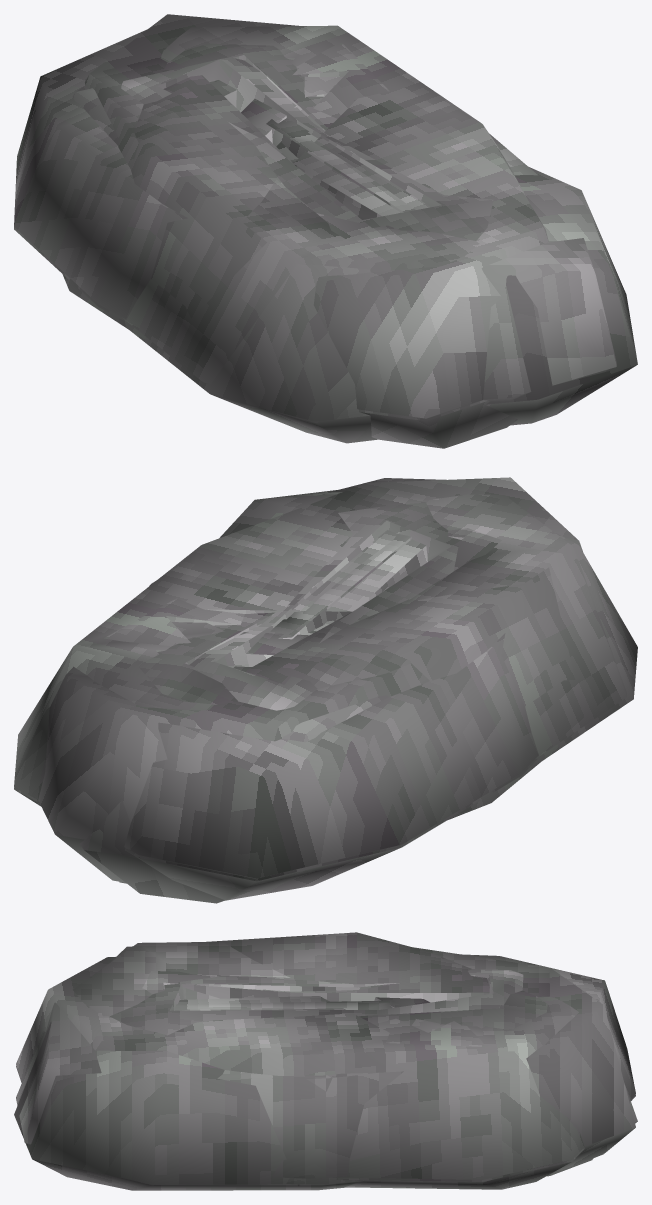
Rendered from AL_rune_pack.FBX.
3 views of the same model, one above another, from view 1: azimuth 30°, elevation 25°; view 2: azimuth 150°, elevation 25°; view 3: azimuth 270°, elevation 25° (orthographic). The views are drawn at different scales.
Visible parts, largest first — view 1: rune_stone_fire, rune_stone_lightning, rune_stone_poison, rune_stone_ice, rune_stone; view 2: rune_stone_fire, rune_stone_poison, rune_stone_lightning, rune_stone_ice, rune_stone; view 3: rune_stone_fire, rune_stone_ice, rune_stone_poison, rune_stone_lightning, rune_stone.
Part boxes in pixels (bbox=[...]): rune_stone_fire: bbox=[14, 25, 548, 418]; rune_stone_lightning: bbox=[124, 43, 401, 443]; rune_stone_poison: bbox=[85, 14, 616, 401]; rune_stone_ice: bbox=[62, 57, 637, 425]; rune_stone: bbox=[14, 42, 517, 448]; rune_stone_fire: bbox=[14, 477, 582, 878]; rune_stone_poison: bbox=[38, 478, 626, 882]; rune_stone_lightning: bbox=[79, 528, 637, 883]; rune_stone_ice: bbox=[80, 490, 540, 903]; rune_stone: bbox=[14, 598, 540, 900]; rune_stone_fire: bbox=[16, 954, 635, 1179]; rune_stone_ice: bbox=[14, 965, 637, 1190]; rune_stone_poison: bbox=[16, 941, 635, 1178]; rune_stone_lightning: bbox=[111, 932, 593, 1187]; rune_stone: bbox=[16, 1018, 635, 1189].
Size of the model in its own units: 25.41 by 10.77 by 39.89.
